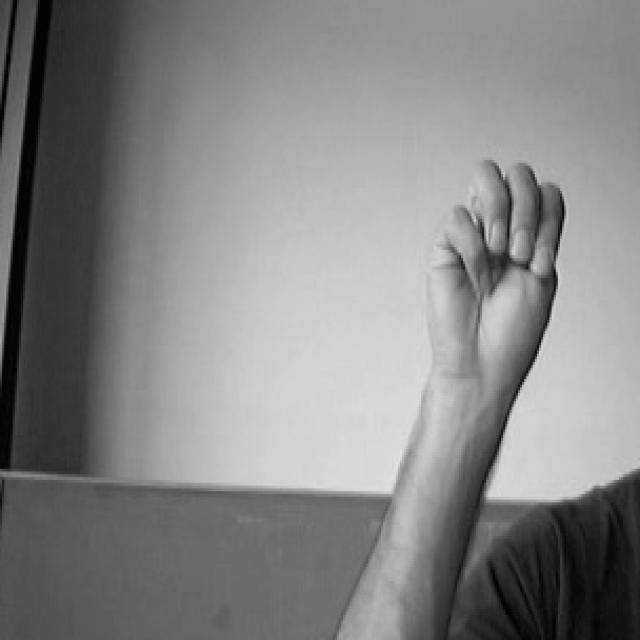M: (408, 143, 583, 393)
